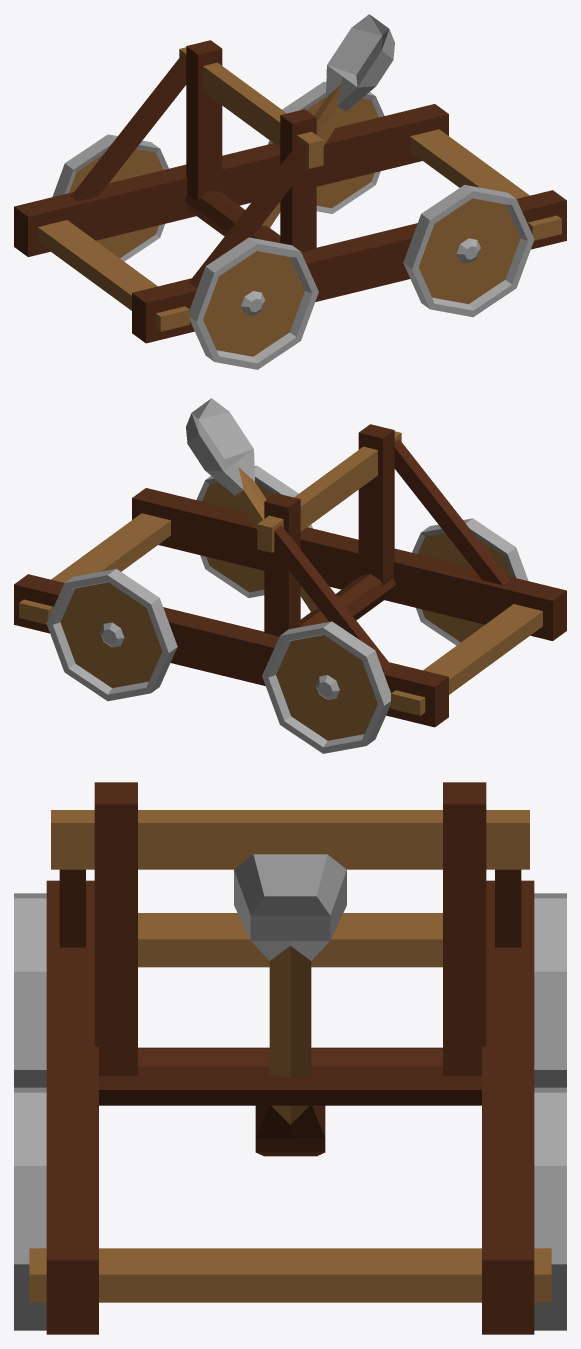
File: Catapulta.fbx
The picture shows the model from 3 angles, top to bottom: view 1: azimuth 30°, elevation 25°; view 2: azimuth 150°, elevation 25°; view 3: azimuth 270°, elevation 25°; orthographic projection. The views are drawn at different scales.
Parts seen in each view (by area): view 1: Catapulta; view 2: Catapulta; view 3: Catapulta.
Boxes of the visible parts, bbox=[...] form: Catapulta: bbox=[14, 14, 566, 369]; Catapulta: bbox=[14, 398, 566, 753]; Catapulta: bbox=[14, 782, 566, 1334].
Bounding box in the file's own units: 322 × 180 × 198.
